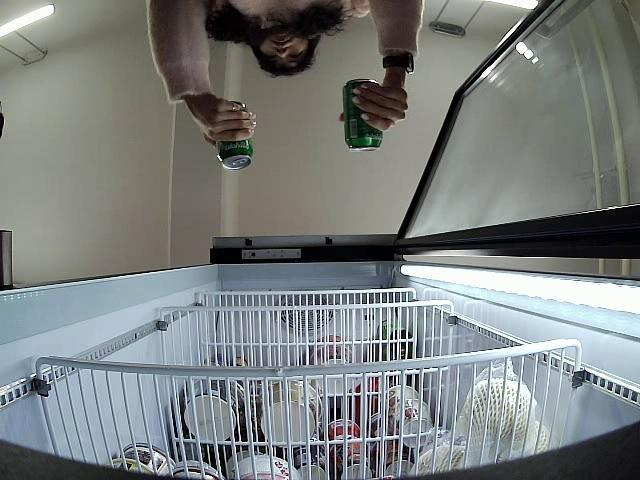12_chilsungCider: (342, 78, 382, 153), (214, 101, 253, 170)
